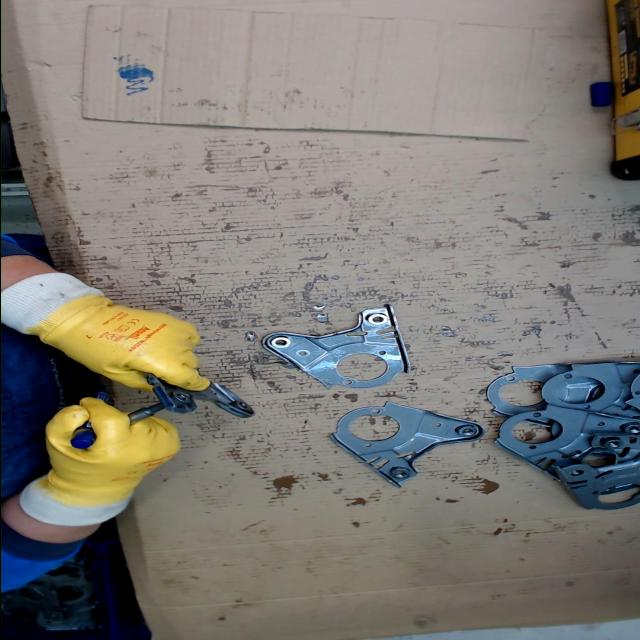hands: (48, 292, 215, 398), (39, 395, 182, 500)
